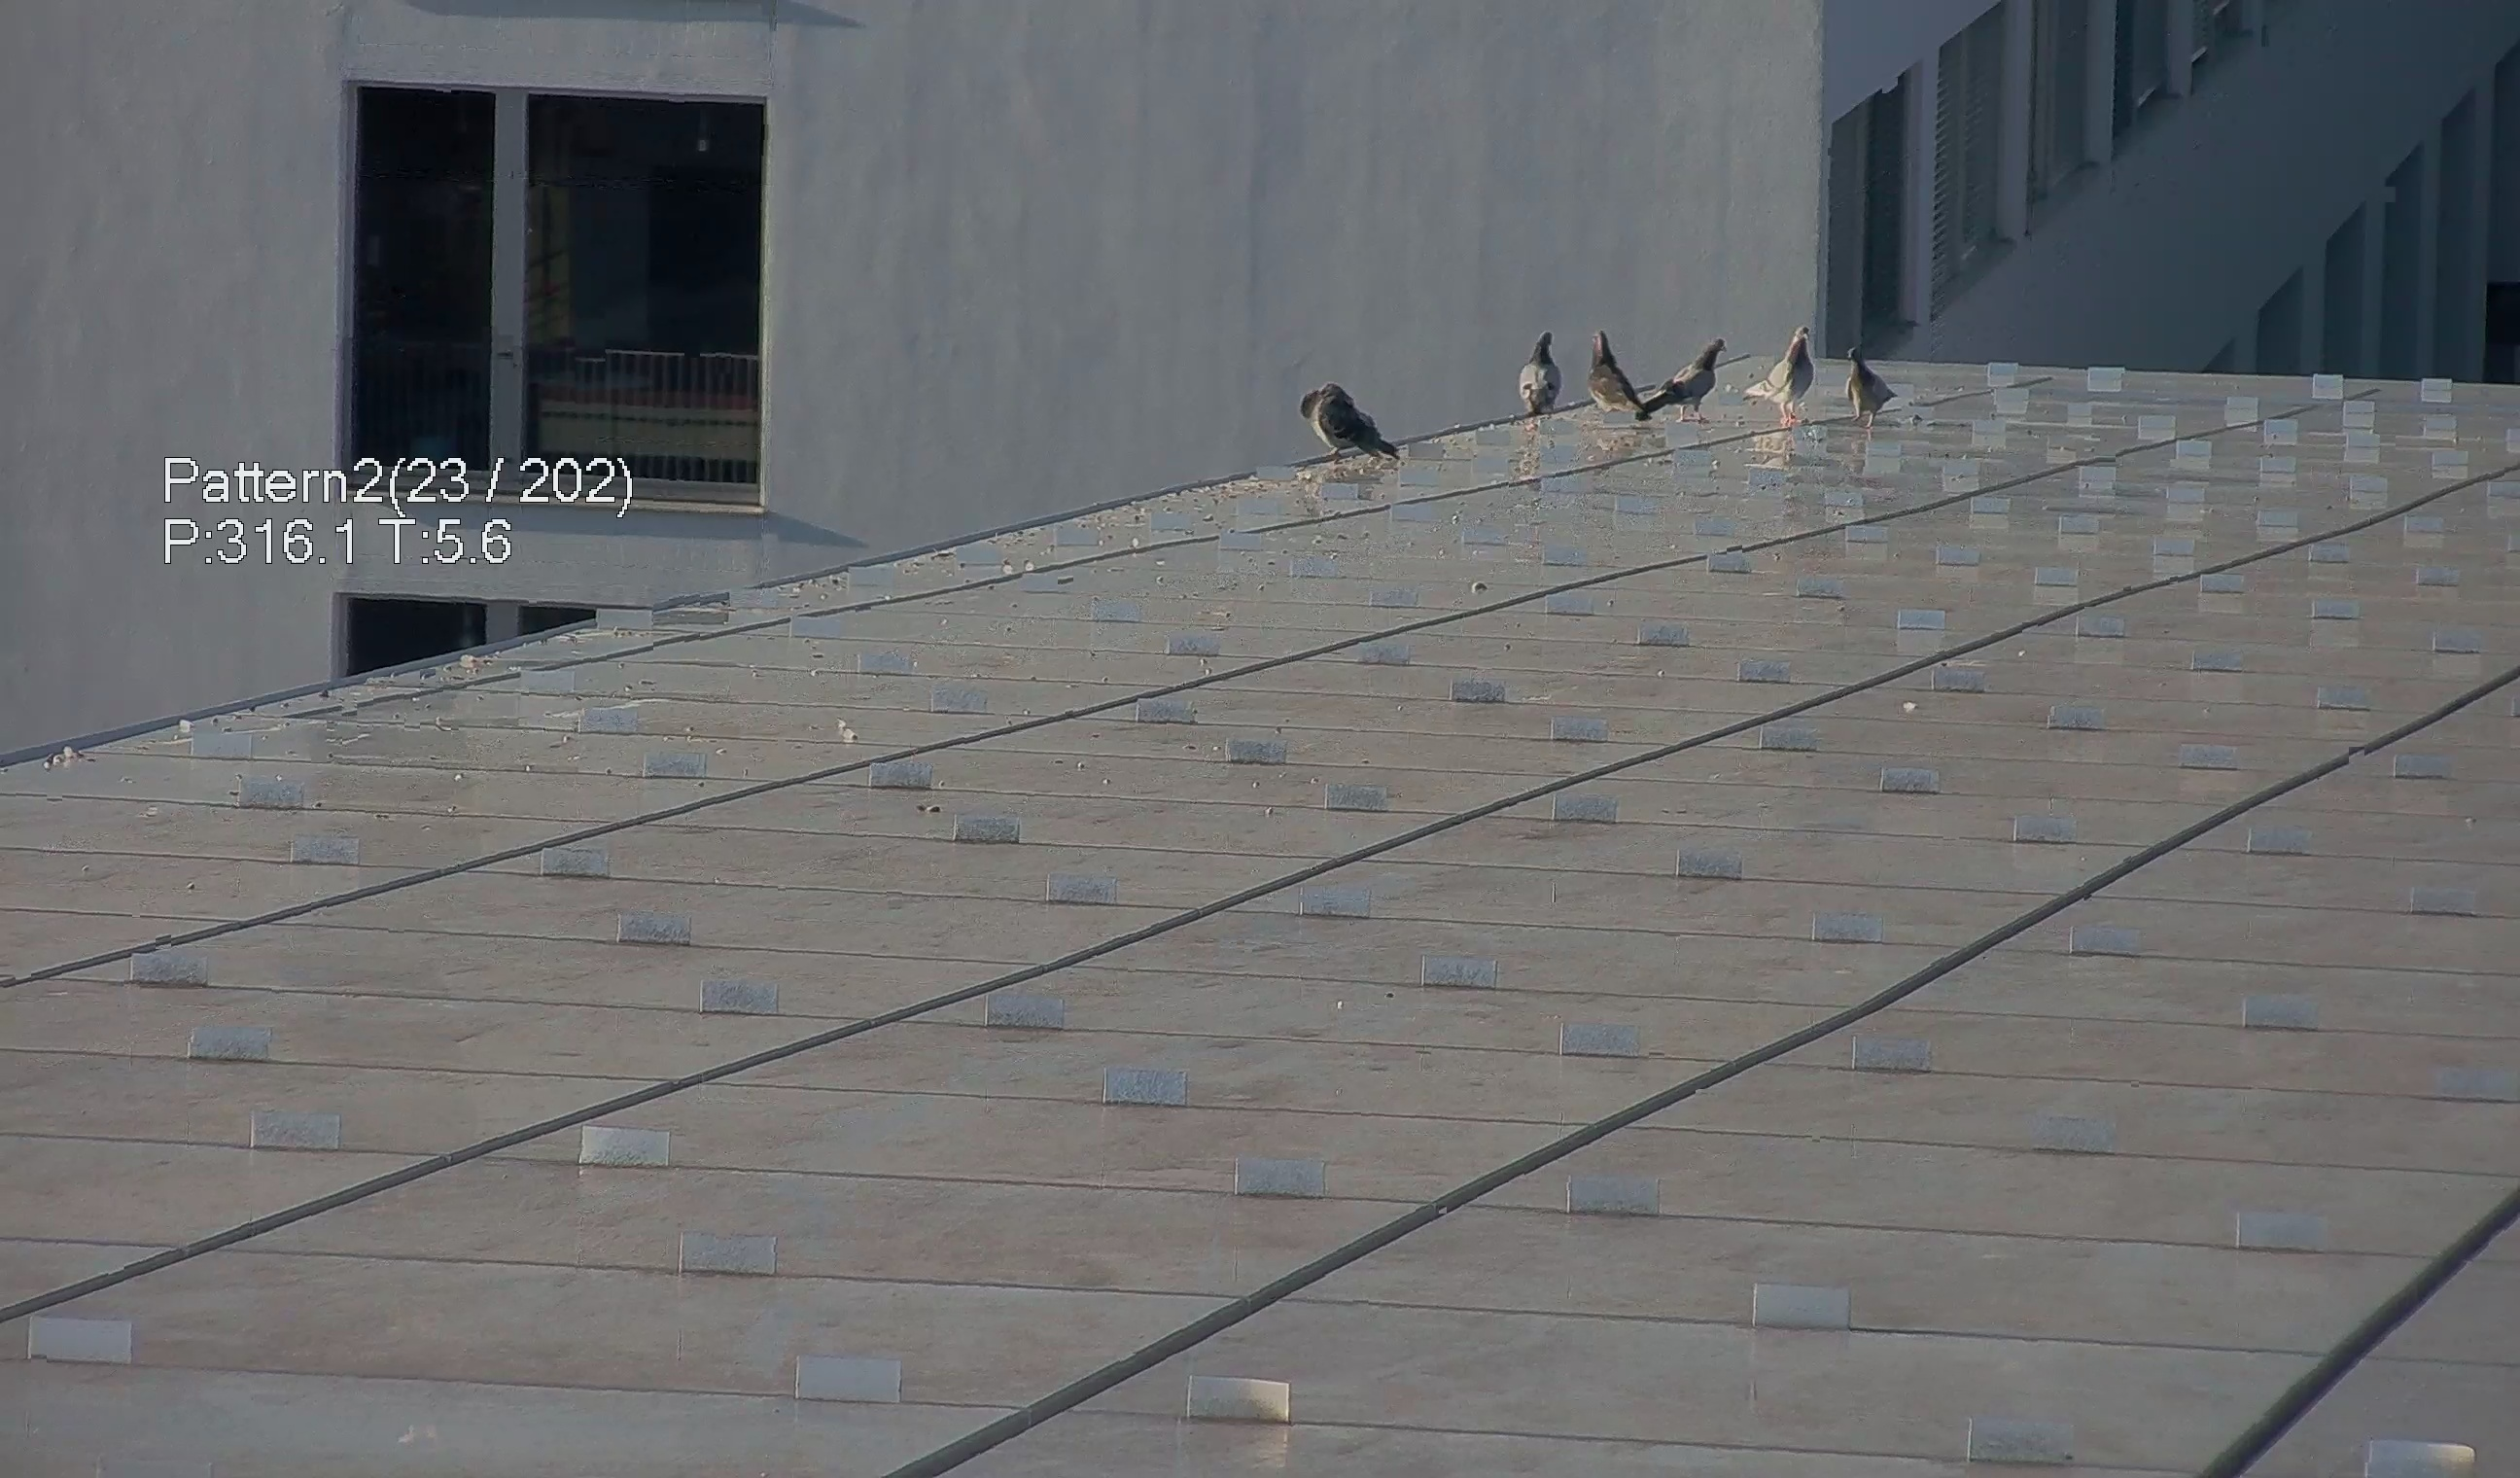Pigeon: (1294, 366, 1419, 479), (1623, 329, 1734, 422), (1746, 310, 1827, 433), (1574, 317, 1657, 428), (1507, 311, 1560, 435), (1845, 329, 1912, 419)
